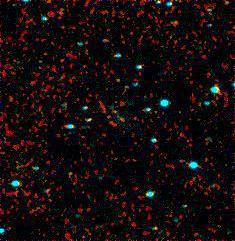star: (101, 95, 131, 125)
